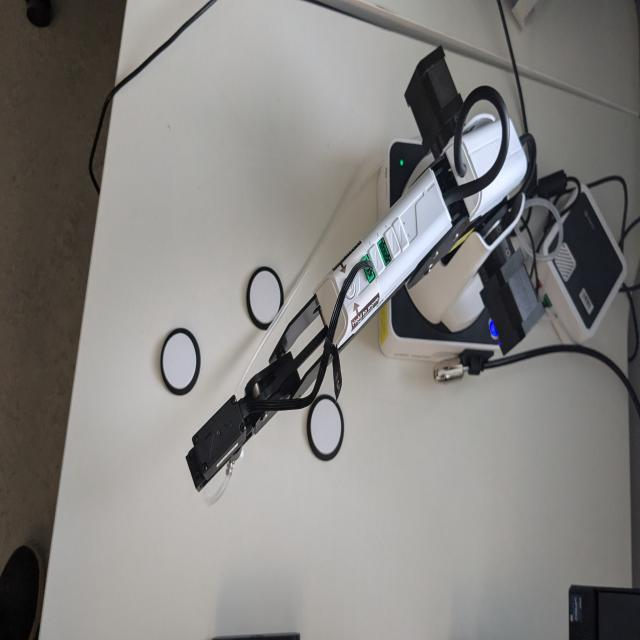Robot-end-effector-HF8z: (177, 390, 252, 496)
